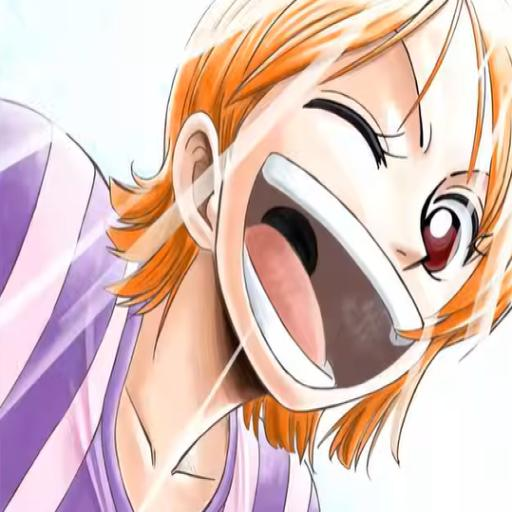Nami: (3, 2, 512, 510)
